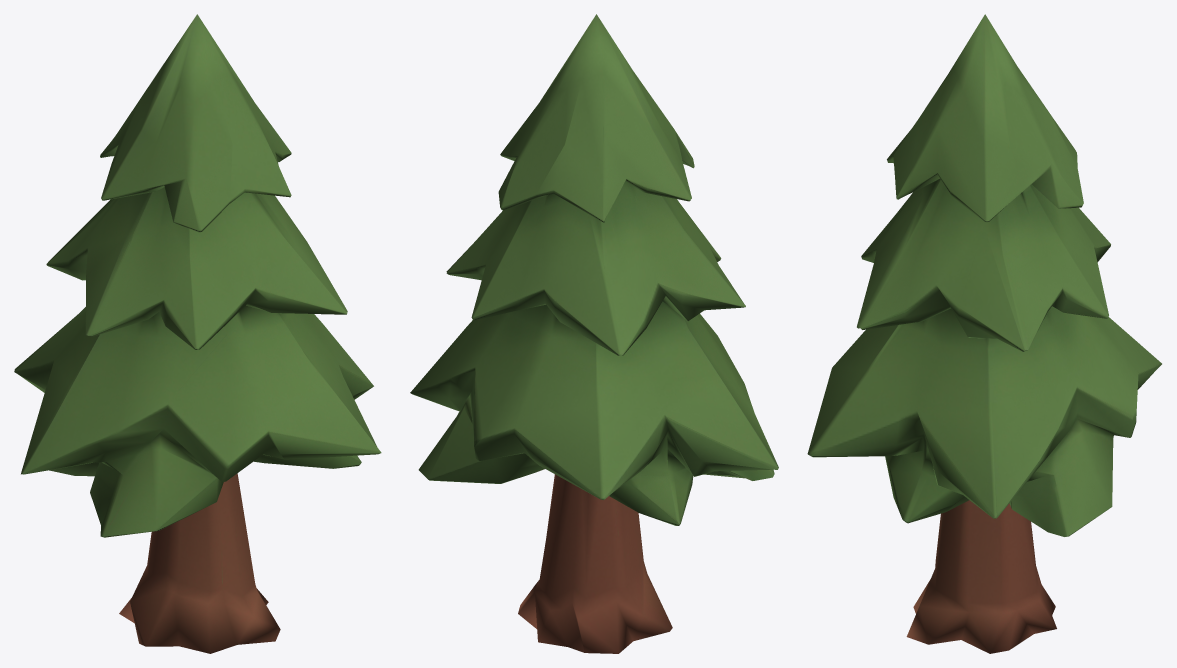
File: tree-b.glb
3 renders of one model, left to right at view 1: azimuth 30°, elevation 25°; view 2: azimuth 150°, elevation 25°; view 3: azimuth 270°, elevation 25°, orthographic.
Size of the model in its own units: 0.5903 by 0.9526 by 0.5073.
Materials: 1 (1 with a texture image).
